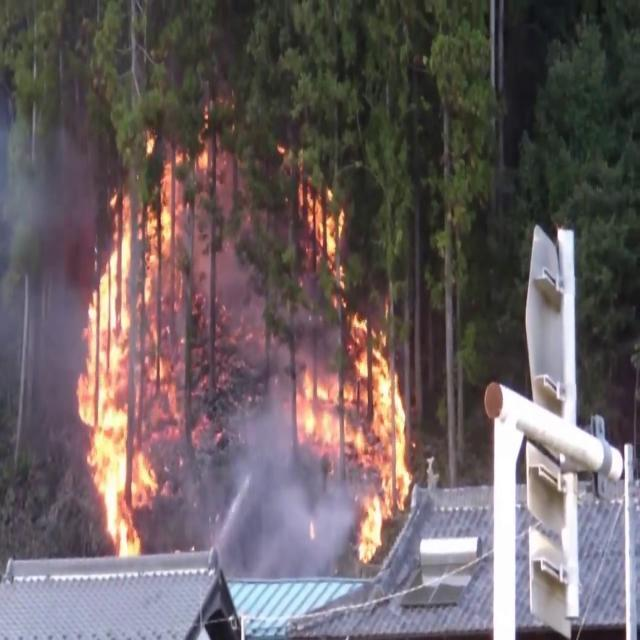Fire: (291, 182, 417, 560), (72, 158, 190, 554)
Smoke: (0, 69, 97, 379), (216, 380, 345, 582)
